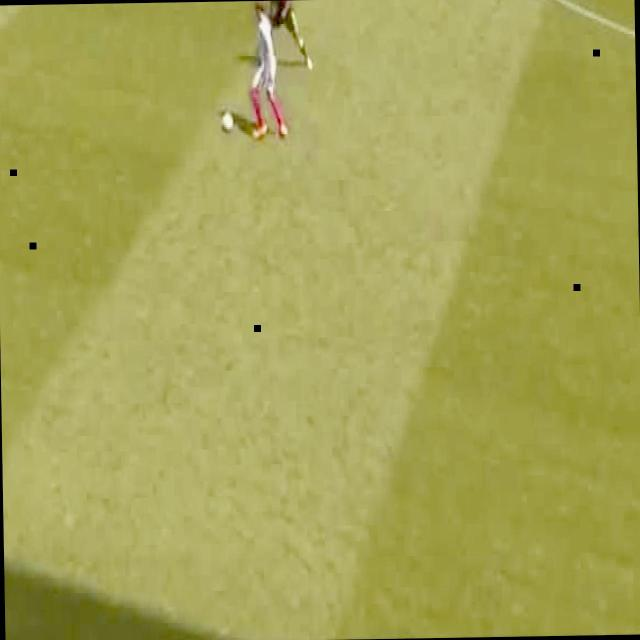ball: (221, 109, 233, 135)
player-white: (248, 2, 289, 140), (263, 0, 313, 72)
